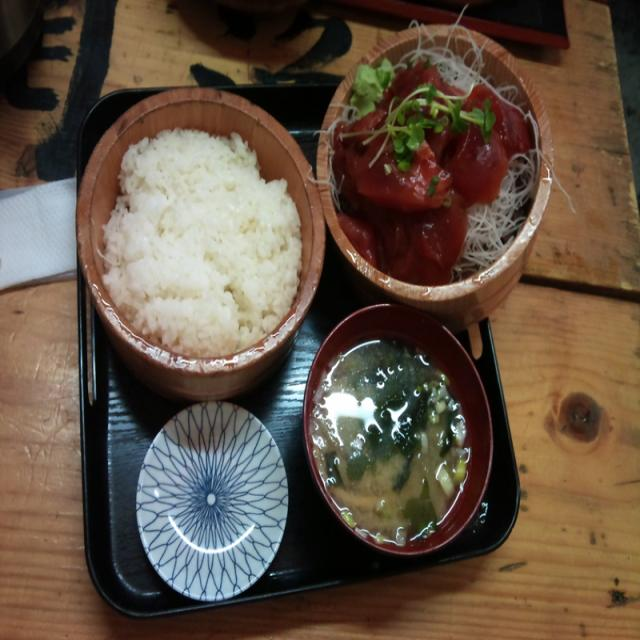刺身生食: (317, 32, 549, 299)
汤锅炖物: (304, 299, 498, 563)
米饭主食: (85, 94, 321, 369)
